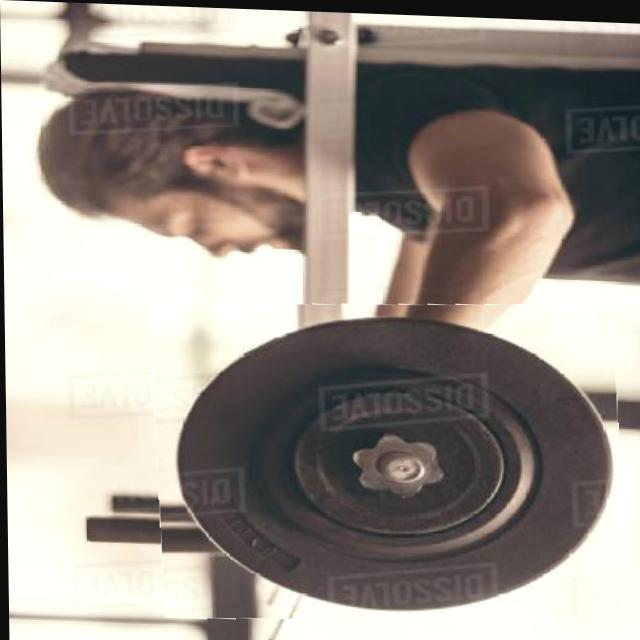barbell: (153, 292, 625, 627)
